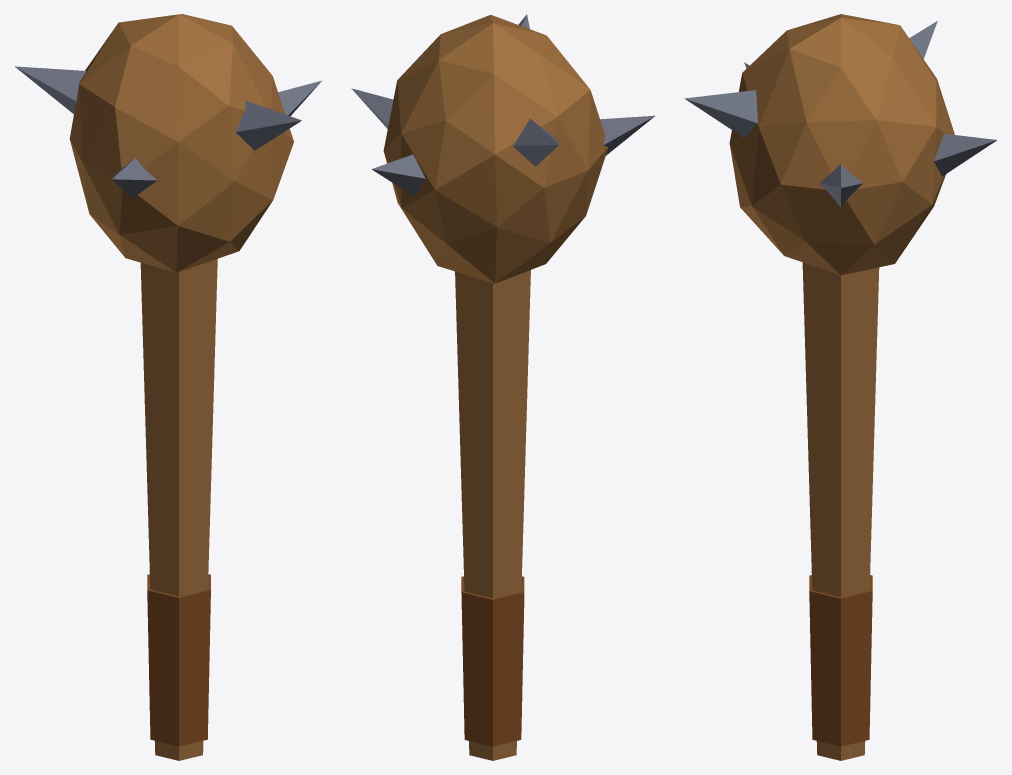
Rendered from club.glb.
3 views of the same model, side by side, from view 1: azimuth 30°, elevation 25°; view 2: azimuth 150°, elevation 25°; view 3: azimuth 270°, elevation 25° (orthographic).
Parts seen in each view (by area): view 1: club; view 2: club; view 3: club.
Part boxes in pixels (box(x1,y1,x2,y2)): club: box(15, 14, 322, 760); club: box(351, 14, 655, 760); club: box(684, 14, 997, 760).
Size of the model in its own units: 0.3256 by 0.8812 by 0.3424.
